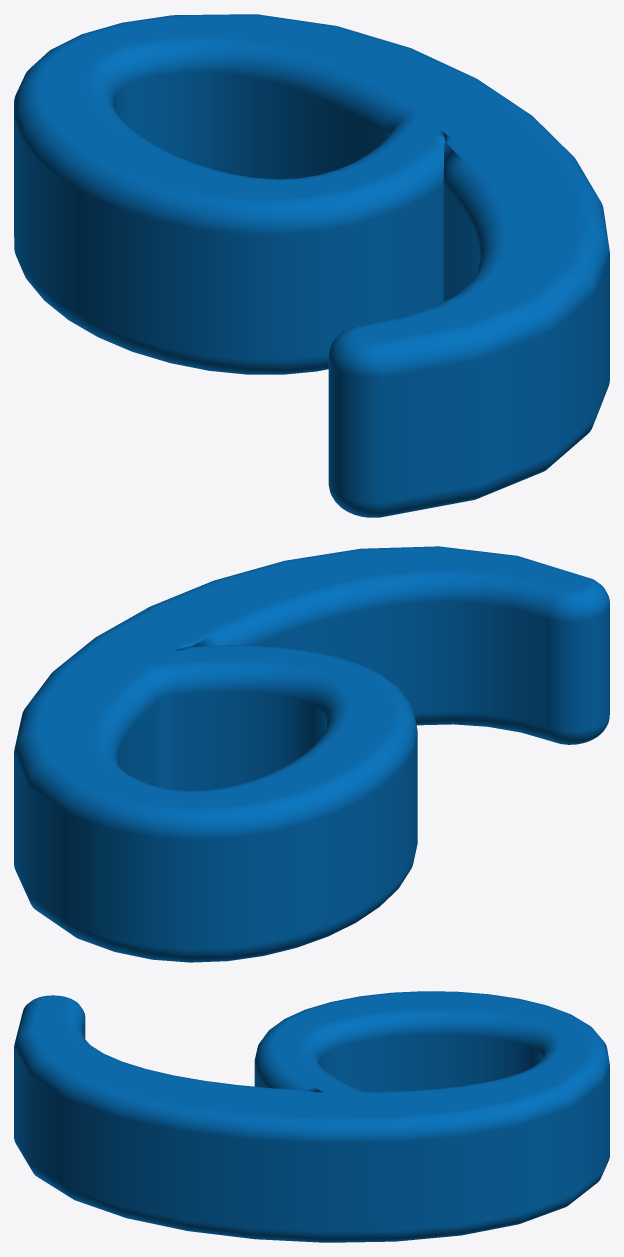
3 renders of one model, top to bottom at view 1: azimuth 30°, elevation 25°; view 2: azimuth 150°, elevation 25°; view 3: azimuth 270°, elevation 25°, orthographic. The views are drawn at different scales.
Parts seen in each view (by area): view 1: 1; view 2: 1; view 3: 1.
Boxes of the visible parts, x1,y1,x2,y2 form: 1: (14,14,609,517); 1: (14,546,609,962); 1: (14,991,609,1242).
Size of the model in its own units: 82.32 by 33.4 by 147.
